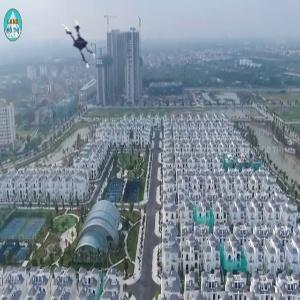drone: (49, 19, 102, 72)
